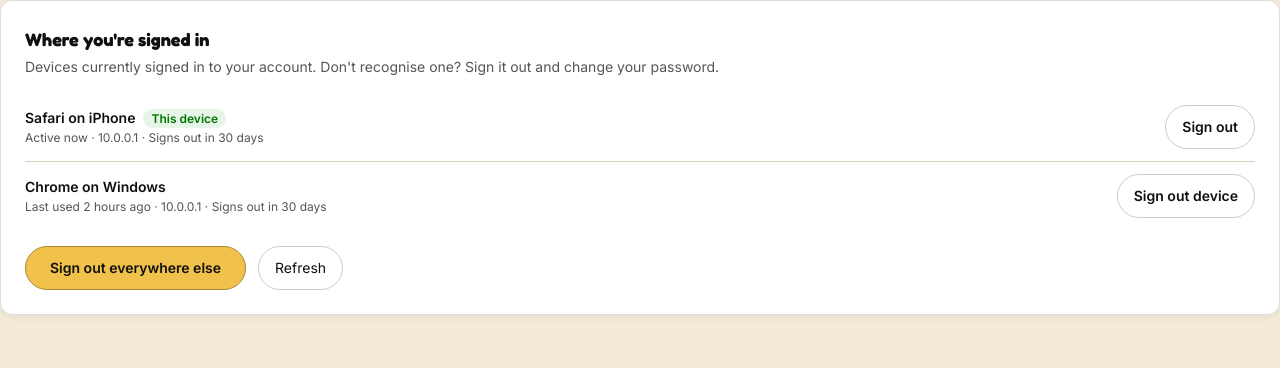
Test: SignedInDevices › keeps the row, and says why, when the revoke fails
Click the button "Sign out device": {"x": 1186, "y": 196} top-left (1117, 174), bottom-right (1255, 218)
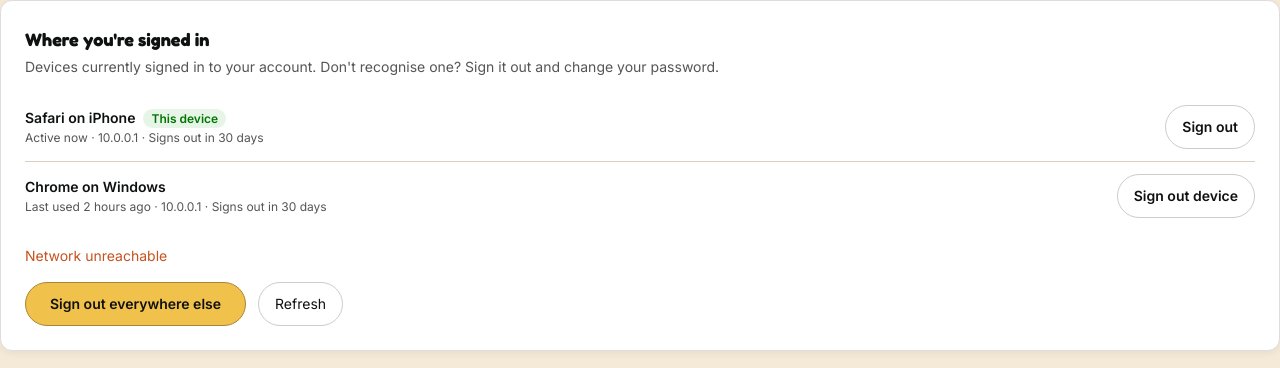
Expected: the text "Chrome on Windows" is shown, top-left (25, 178), bottom-right (166, 195)
Expected: the text "Network unreachable" is shown, top-left (25, 247), bottom-right (167, 264)
